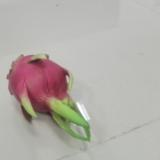pitaya: (7, 53, 92, 143)
